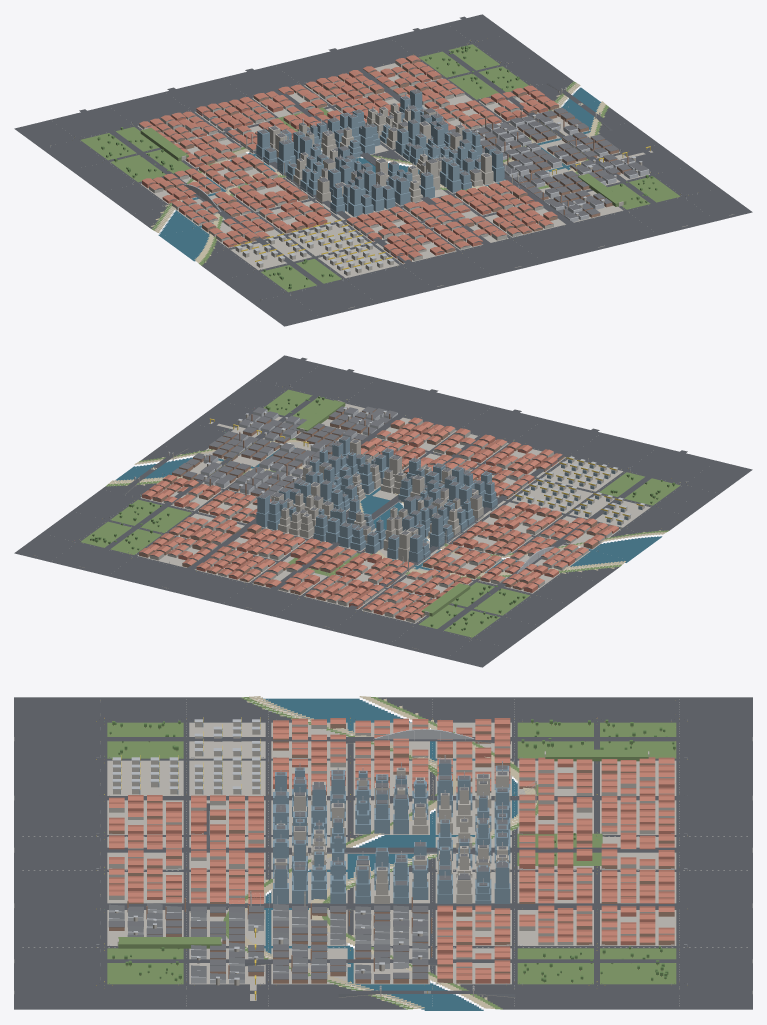
Rendered from riverbend.glb.
3 views of the same model, one above another, from view 1: azimuth 30°, elevation 25°; view 2: azimuth 150°, elevation 25°; view 3: azimuth 270°, elevation 25° (orthographic). The views are drawn at different scales.
Parts seen in each view (by area): view 1: city; view 2: city; view 3: city.
Part boxes in pixels (x1=…): city: x1=14, y1=14, x2=752, y2=326; city: x1=14, y1=355, x2=752, y2=667; city: x1=14, y1=696, x2=752, y2=1010.
Bounding box in the file's own units: 1800 × 138 × 1800.
